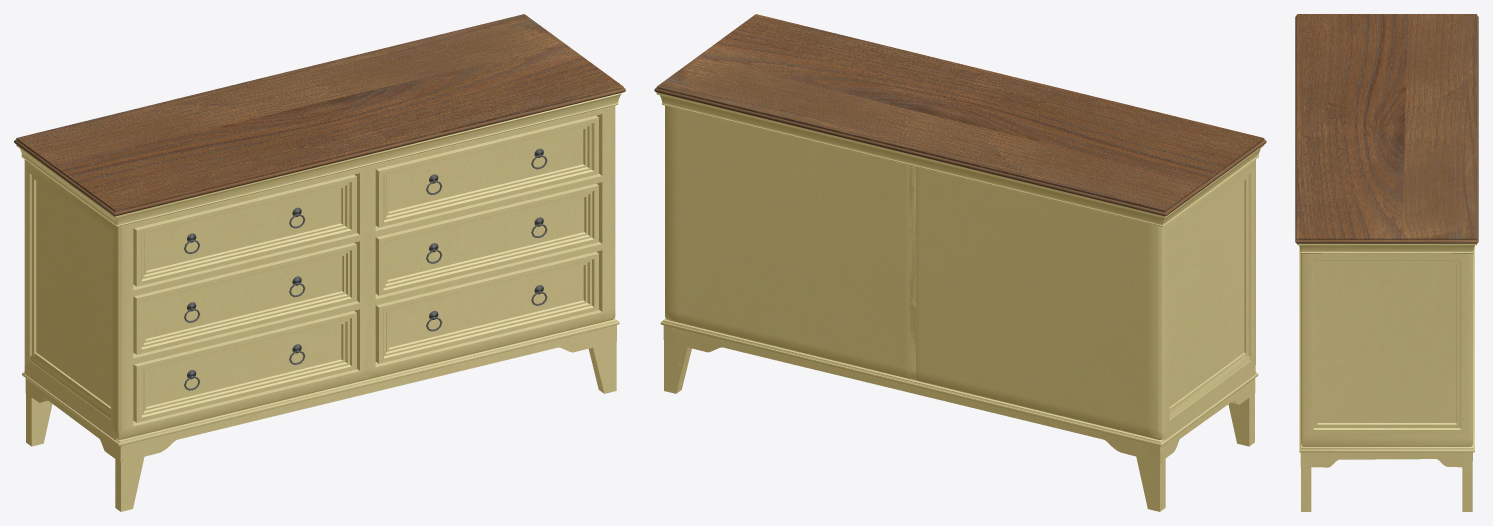
The model's file is example5.glb.
3 views of the same model, side by side, from view 1: azimuth 30°, elevation 25°; view 2: azimuth 150°, elevation 25°; view 3: azimuth 270°, elevation 25° (orthographic). The views are drawn at different scales.
Parts seen in each view (by area): view 1: Merged Objects 1, столешница 1, Merged Objects; view 2: Merged Objects 1, столешница 1; view 3: столешница 1, Merged Objects 1.
Part boxes in pixels (box(x1,y1,x2,y2)): Merged Objects 1: box(16, 93, 621, 511); столешница 1: box(14, 14, 625, 216); Merged Objects: box(184, 148, 547, 390); Merged Objects 1: box(656, 92, 1264, 511); столешница 1: box(654, 14, 1266, 216); столешница 1: box(1295, 14, 1478, 243); Merged Objects 1: box(1297, 243, 1476, 511).
Size of the model in its own units: 0.4348 by 0.2471 by 0.1486.
3 materials, 2 textured.
